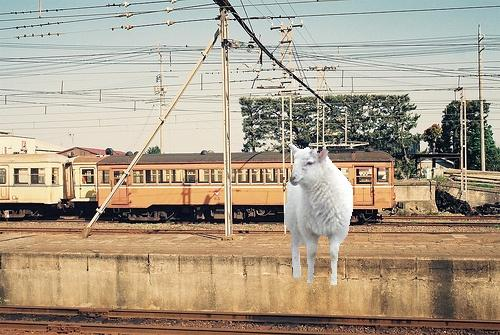tampered: (285, 145, 353, 285)
